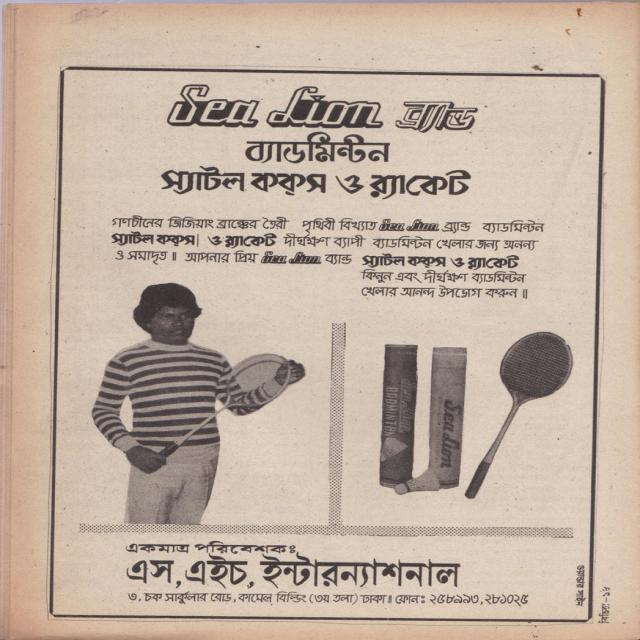advertisement: (49, 66, 601, 622)
page number: (598, 585, 612, 599)
text: (595, 602, 612, 625)
